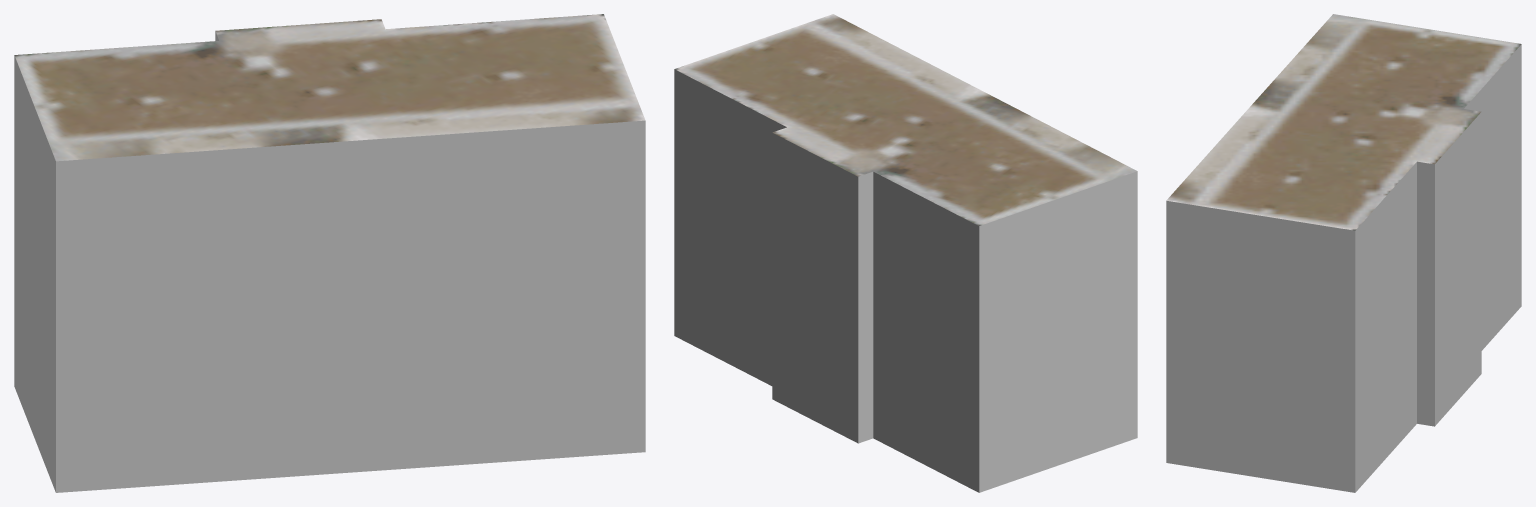
The model's file is DEBW_0010007TxfQ.gltf.
The picture shows the model from 3 angles, left to right: view 1: azimuth 30°, elevation 25°; view 2: azimuth 150°, elevation 25°; view 3: azimuth 270°, elevation 25°; orthographic projection. The views are drawn at different scales.
Visible parts, largest first — view 1: Z_UP; view 2: Z_UP; view 3: Z_UP.
Part boxes in pixels (x1=…): Z_UP: x1=14, y1=14, x2=645, y2=492; Z_UP: x1=674, y1=14, x2=1137, y2=492; Z_UP: x1=1166, y1=14, x2=1521, y2=492.
Size of the model in its own units: 28.26 by 15.94 by 19.59.
2 materials, 1 textured.
